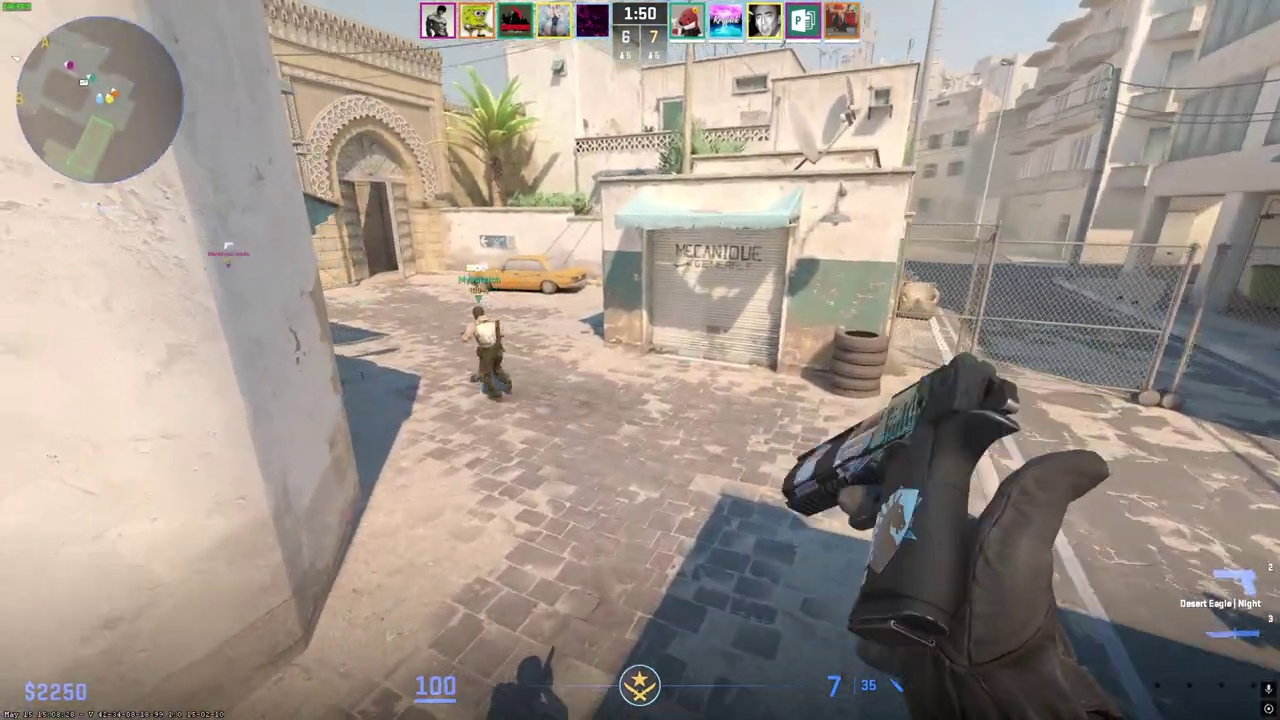Terrorist: (467, 304, 511, 403)
